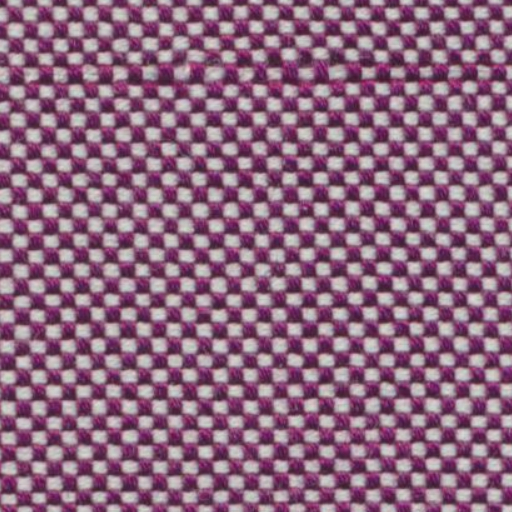TuoSha: (5, 39, 500, 114)
